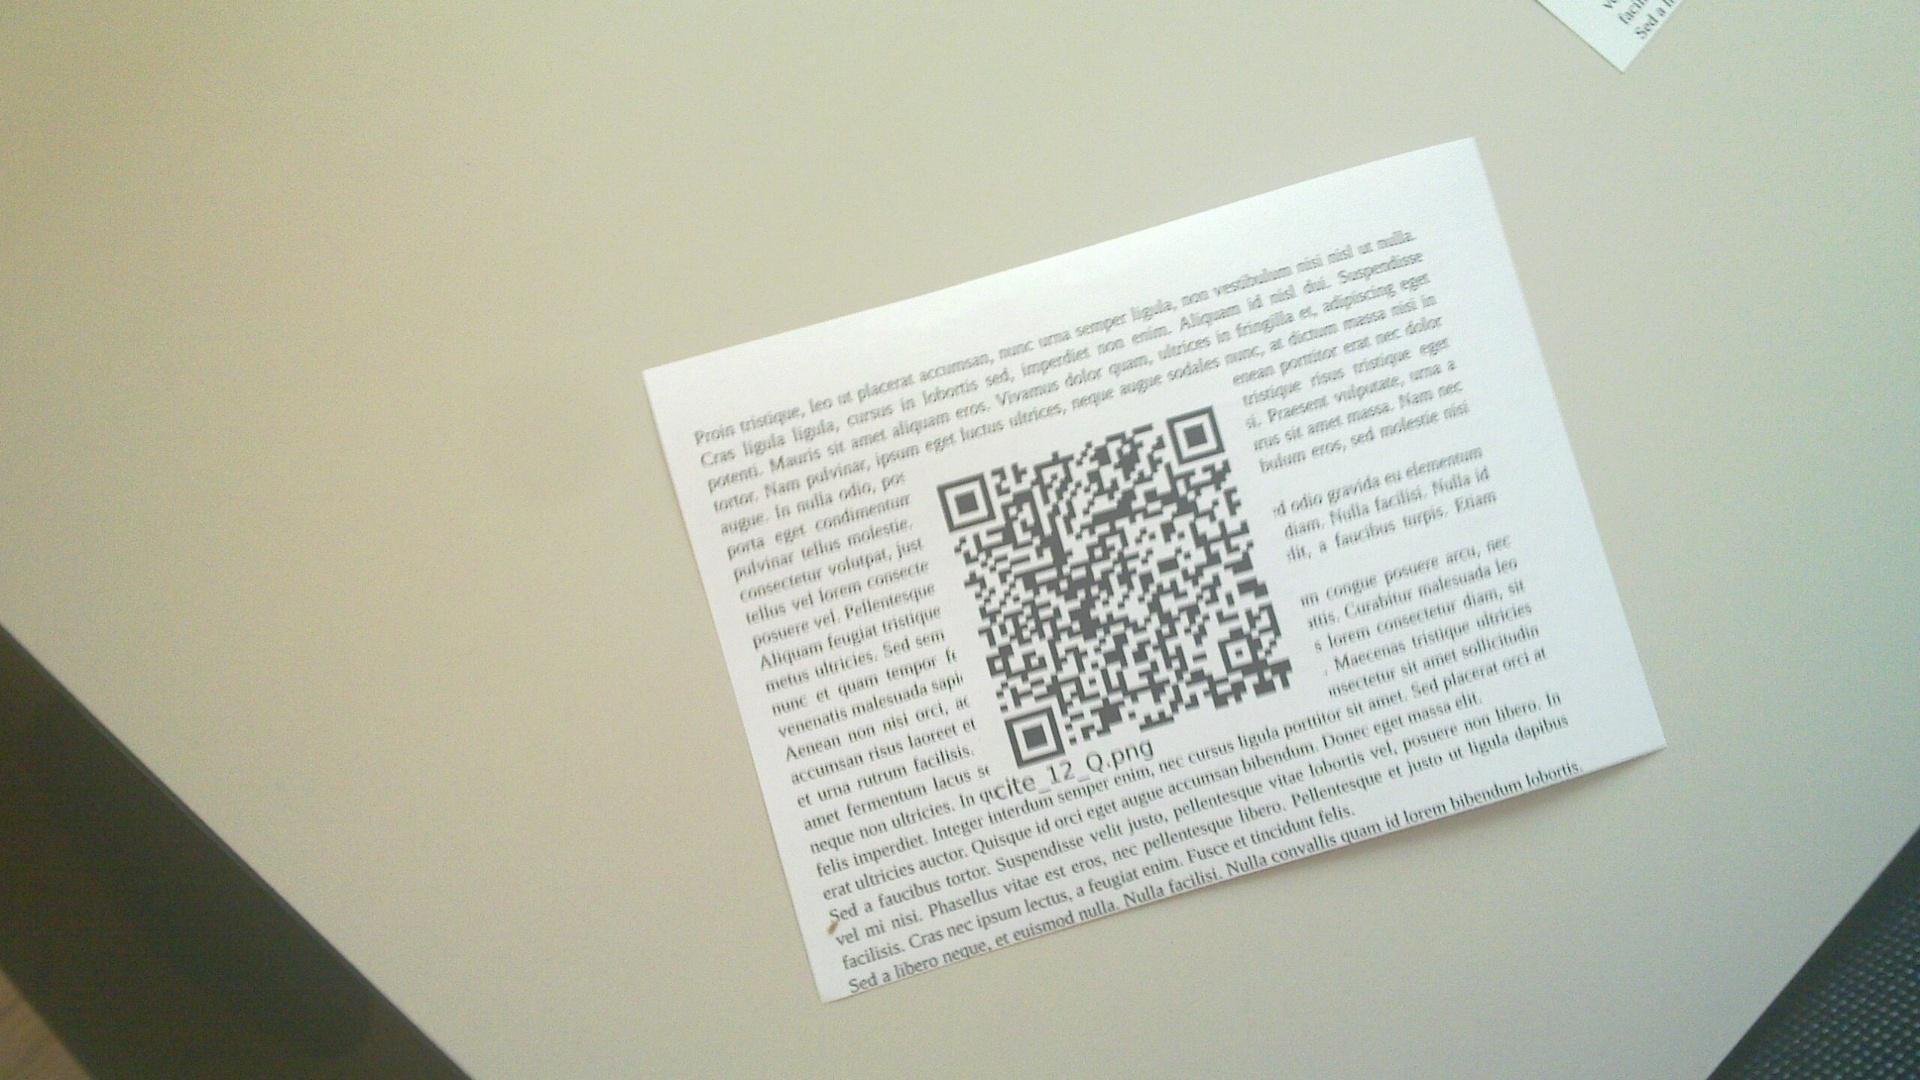Finder pattern: (998, 703, 1067, 767), (1159, 400, 1225, 464), (934, 471, 998, 533)
